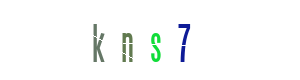7: (144, 0, 224, 80)
K: (78, 0, 158, 80)
N: (110, 0, 190, 80)
S: (115, 0, 195, 80)
